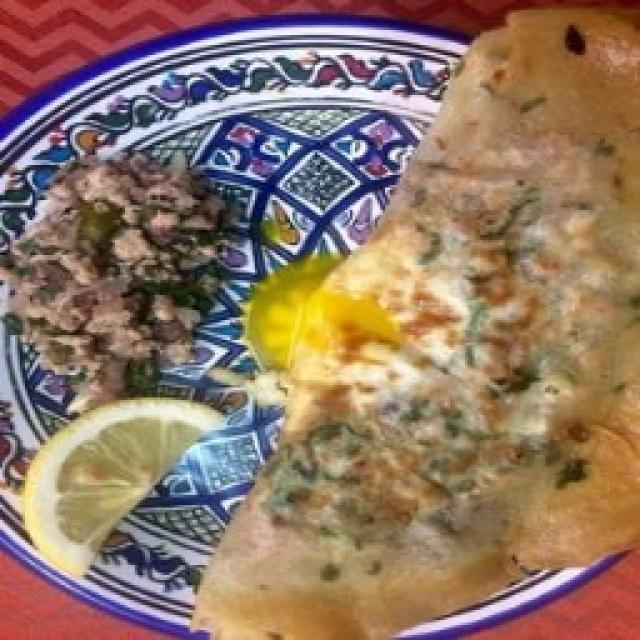Brik: (195, 11, 640, 640)
